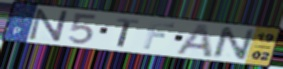5: (66, 12, 101, 46)
A: (174, 23, 215, 59)
F: (141, 20, 177, 51)
N: (210, 25, 258, 62), (28, 8, 70, 43)
T: (115, 16, 141, 48)
